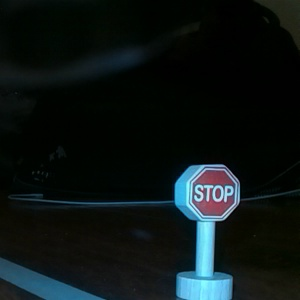stop sign: (167, 161, 245, 300)
